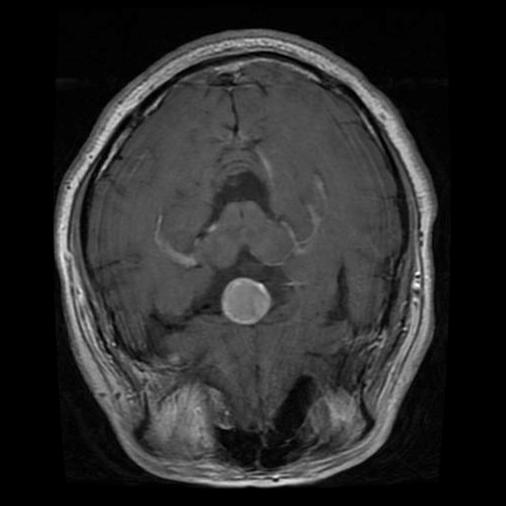Tumour-Pituitary: (220, 277, 275, 326)
